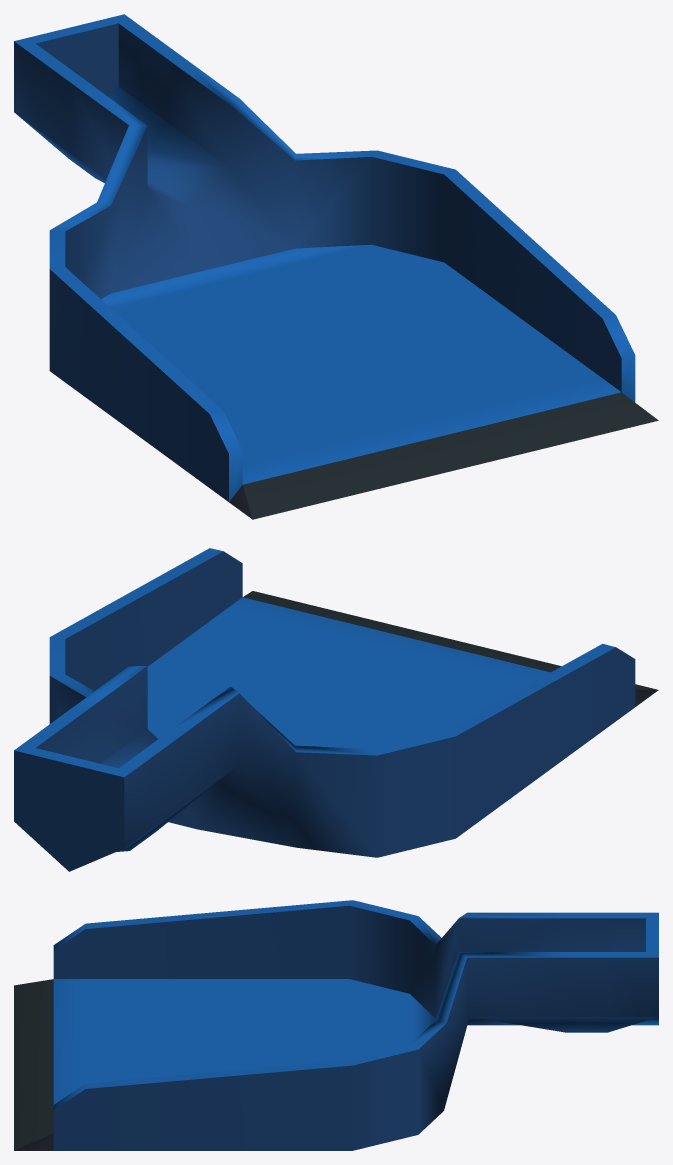
3 views of the same model, one above another, from view 1: azimuth 30°, elevation 25°; view 2: azimuth 150°, elevation 25°; view 3: azimuth 270°, elevation 25° (orthographic). The views are drawn at different scales.
Parts seen in each view (by area): view 1: alt2.170; view 2: alt2.170; view 3: alt2.170.
Part boxes in pixels (<box>): alt2.170: <box>14,14,658,519</box>; alt2.170: <box>14,548,658,871</box>; alt2.170: <box>14,900,658,1150</box>.
Size of the model in its own units: 0.3033 by 0.1138 by 0.5.
